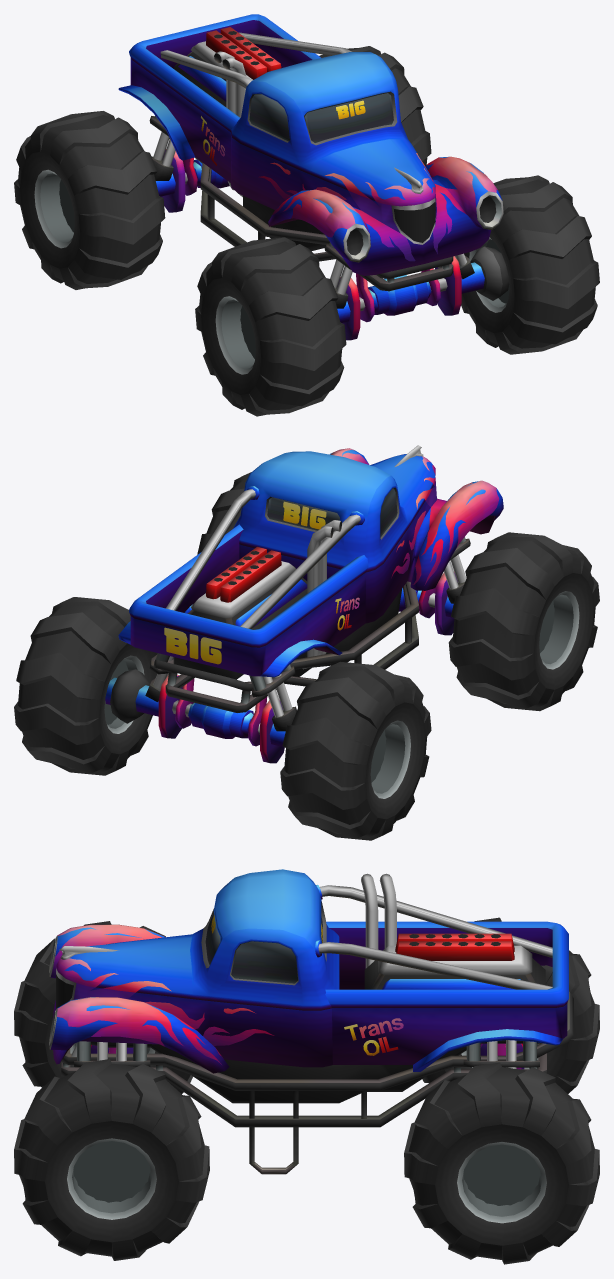
File: 13 - Monster 1.fbx
3 renders of one model, top to bottom at view 1: azimuth 30°, elevation 25°; view 2: azimuth 150°, elevation 25°; view 3: azimuth 270°, elevation 25°, orthographic. The views are drawn at different scales.
Parts seen in each view (by area): view 1: WheelObject (×4), Chasis, Tailgate_10C (1), Suspension FL, Suspension BR, Suspension FR; view 2: WheelObject (×4), Chasis, Tailgate_10C (1), Suspension BL, Suspension BR, Suspension FR; view 3: Chasis, WheelObject (×4), Tailgate_10C (1), Suspension BL, Suspension FL.
Boxes of the visible parts, left/top/right/bottom form: WheelObject (×4): left=14, top=46, right=599, bottom=416; Chasis: left=118, top=14, right=503, bottom=322; Tailgate_10C (1): left=201, top=100, right=497, bottom=261; Suspension FL: left=435, top=246, right=509, bottom=315; Suspension BR: left=149, top=116, right=185, bottom=212; Suspension FR: left=324, top=242, right=360, bottom=340; WheelObject (×4): left=14, top=472, right=599, bottom=840; Chasis: left=118, top=445, right=503, bottom=746; Tailgate_10C (1): left=164, top=448, right=499, bottom=664; Suspension BL: left=105, top=653, right=182, bottom=738; Suspension BR: left=249, top=664, right=296, bottom=763; Suspension FR: left=435, top=537, right=470, bottom=635; Chasis: left=49, top=869, right=573, bottom=1174; WheelObject (×4): left=14, top=917, right=599, bottom=1264; Tailgate_10C (1): left=50, top=915, right=403, bottom=1064; Suspension BL: left=463, top=1040, right=539, bottom=1068; Suspension FL: left=74, top=1041, right=150, bottom=1067.
Size of the model in its own units: 2.18 by 1.54 by 2.87.
1 material, 1 textured.
